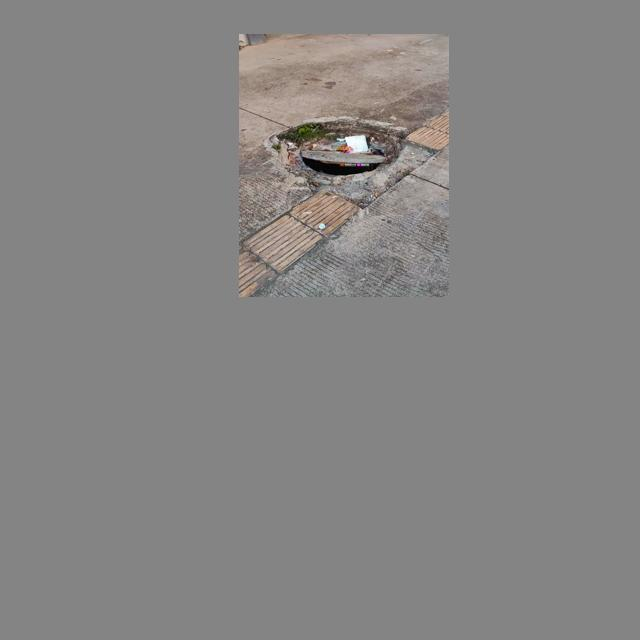circle: (257, 113, 429, 202)
